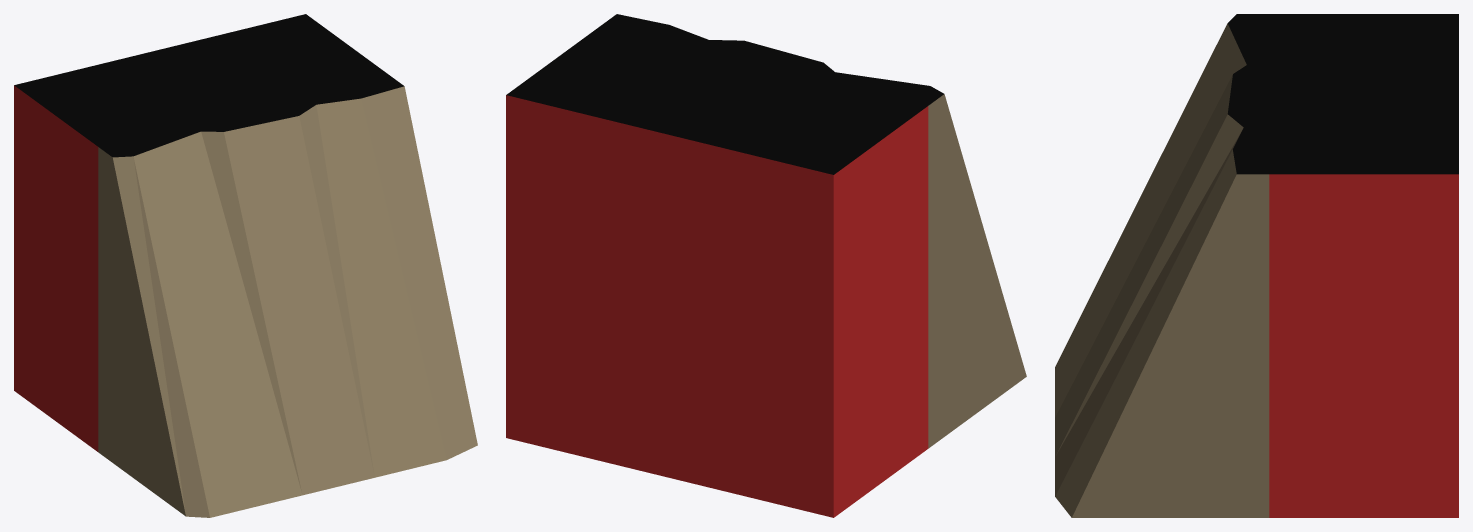
The model's file is Model_Horde_Slope_3SLTR_LRS_1.fbx.
3 views of the same model, side by side, from view 1: azimuth 30°, elevation 25°; view 2: azimuth 150°, elevation 25°; view 3: azimuth 270°, elevation 25° (orthographic). The views are drawn at different scales.
Parts seen in each view (by area): view 1: Model_Frost_Obstacle1; view 2: Model_Frost_Obstacle1; view 3: Model_Frost_Obstacle1.
Boxes of the visible parts, box(x1,y1,x2,y2) form: Model_Frost_Obstacle1: box(14, 14, 477, 517); Model_Frost_Obstacle1: box(506, 14, 1026, 517); Model_Frost_Obstacle1: box(1055, 14, 1458, 517).
Bounding box in the file's own units: 200 × 200 × 213.
